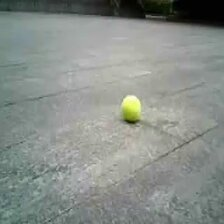tennis: (122, 95, 141, 122)
